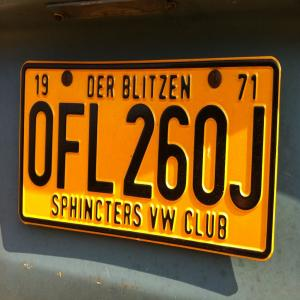Vehicle-registration-plate: (16, 53, 285, 251)
